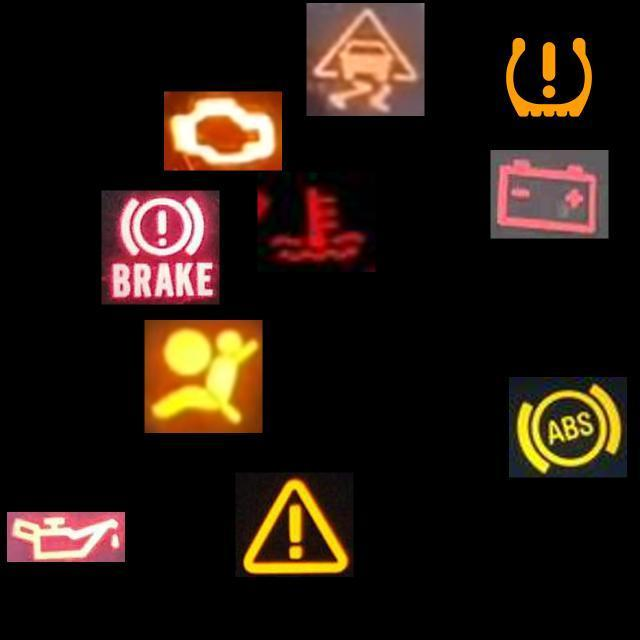Central Warning lamp: (235, 472, 354, 578)
Engine cooling system: (258, 172, 376, 272)
